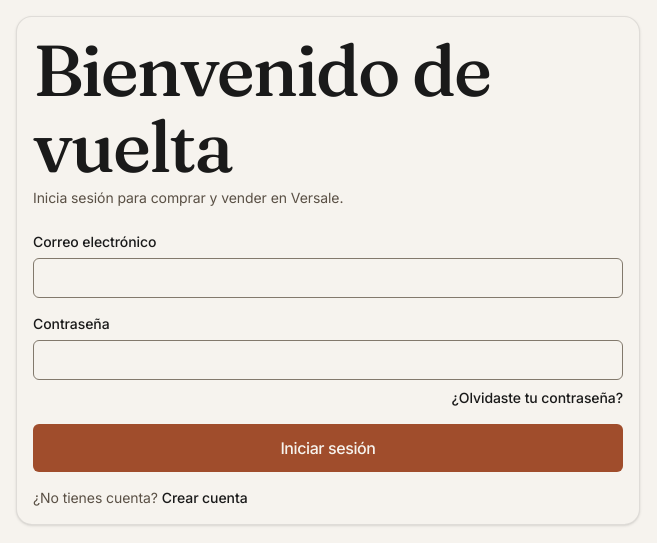
Test: LoginPage › deshabilita el botón mientras se envía el formulario
Step 1. Type "a@b.c" into the field labelled "Correo electrónico" → point(328, 278), box [33,258,623,298]
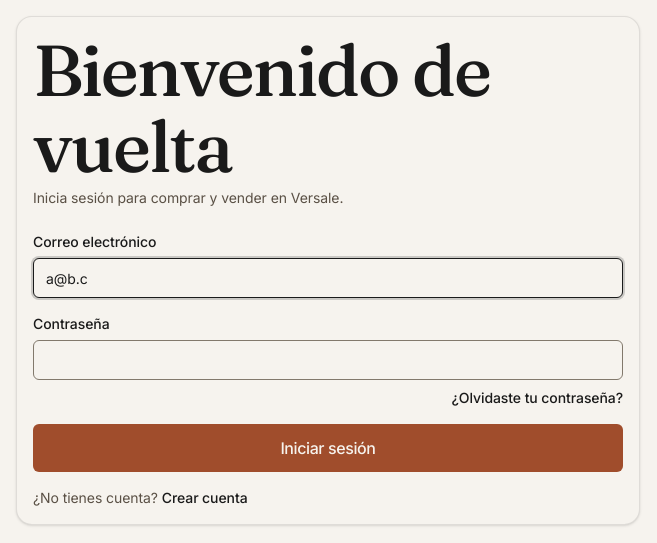
Step 2. Type "contraseña" into the password field labelled "Contraseña" → point(328, 360), box [33,340,623,380]
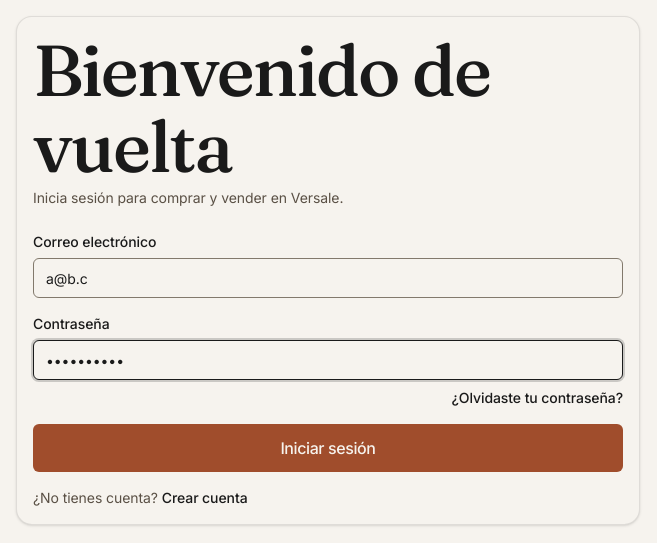
Step 3. Click the button "Iniciar sesión" → point(328, 448), box [33,424,623,472]
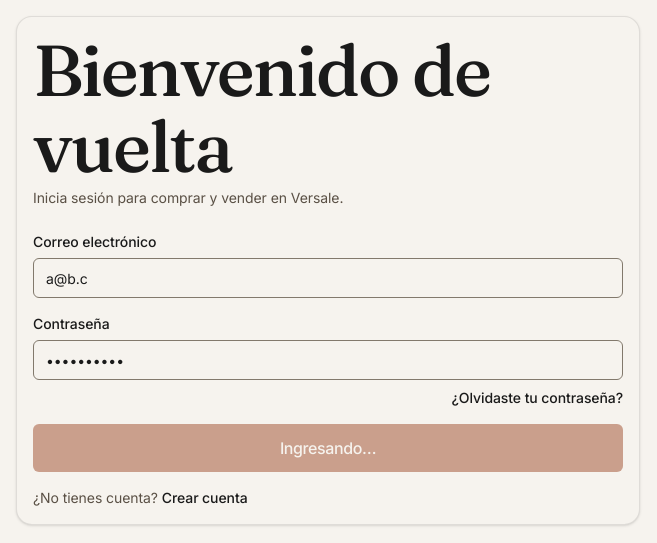
Now the button is disabled, box [33,424,623,472]
Now the button shows "Ingresando", box [33,424,623,472]
